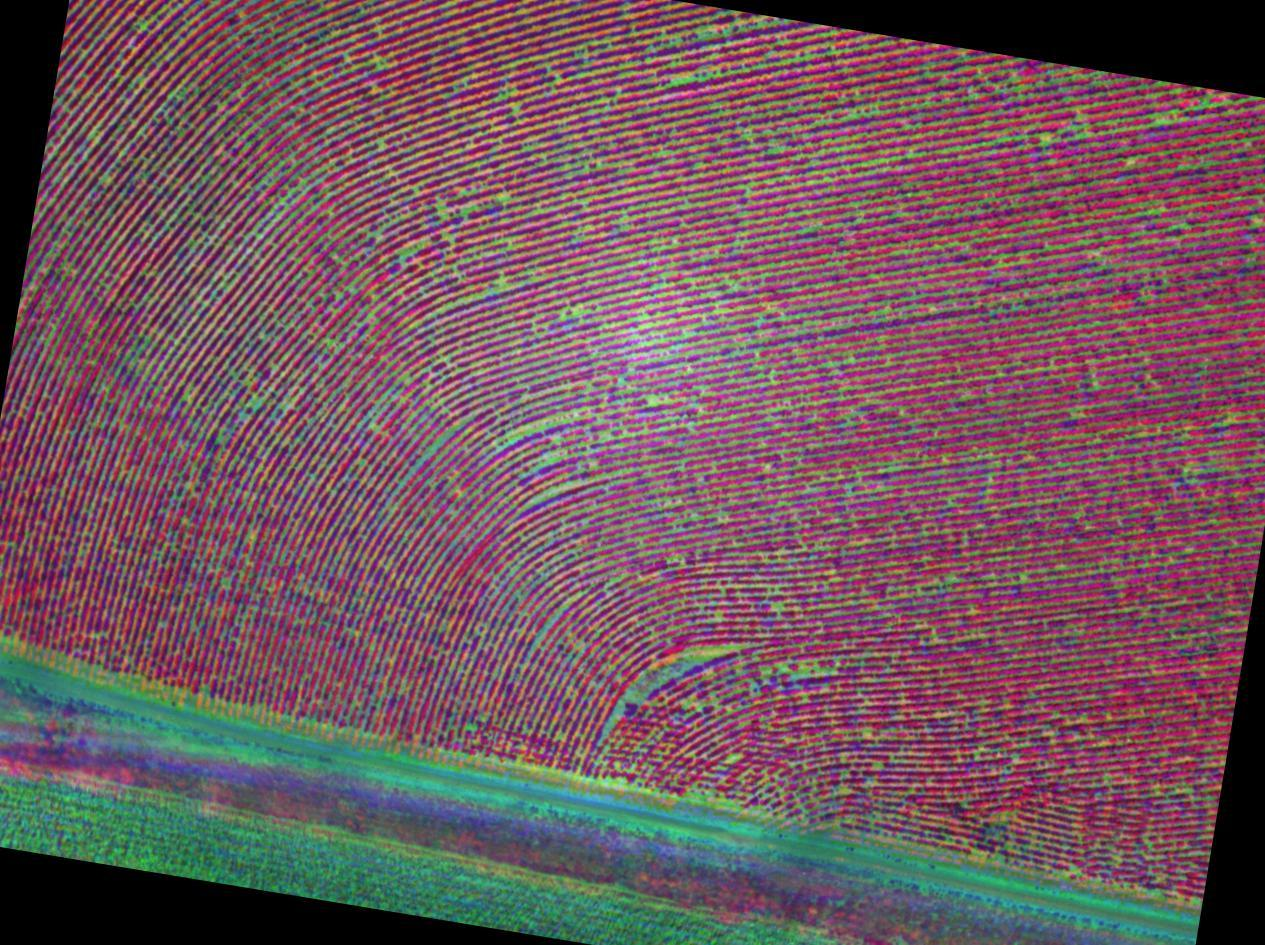dc: (616, 643, 749, 769), (583, 10, 721, 116), (131, 315, 247, 436), (151, 110, 258, 228), (418, 203, 508, 302)
